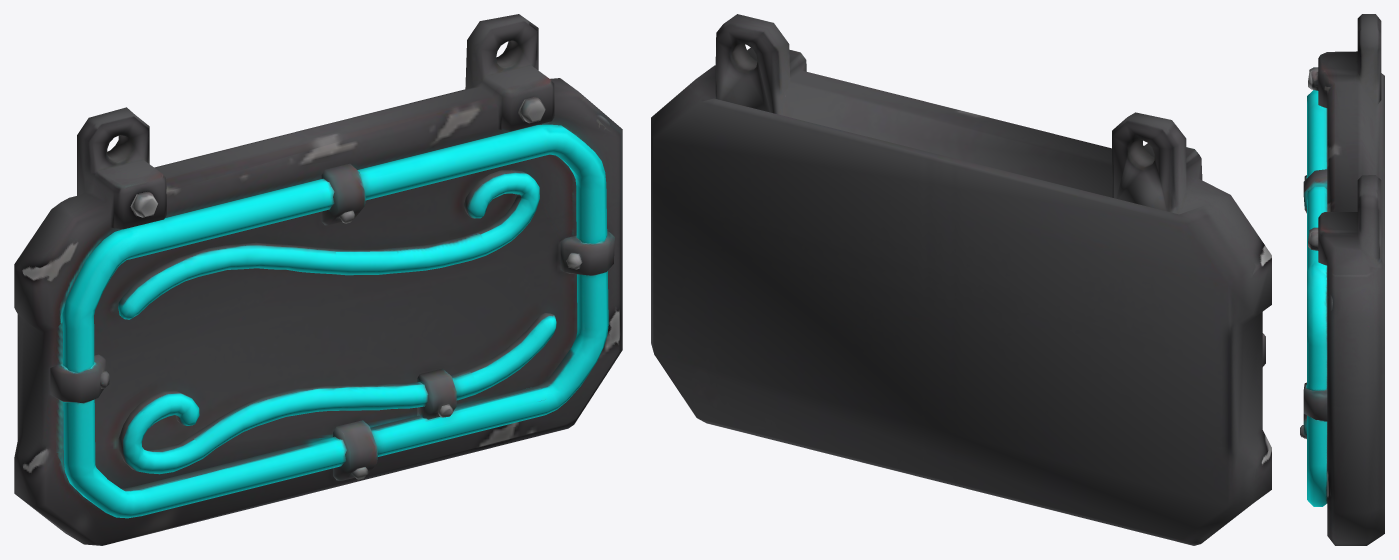
File: neon-sign.glb
3 views of the same model, side by side, from view 1: azimuth 30°, elevation 25°; view 2: azimuth 150°, elevation 25°; view 3: azimuth 270°, elevation 25° (orthographic). The views are drawn at different scales.
Visible parts, largest first — view 1: tripo_node_08d3ece7-989a-47c4-9074-3c5ef32a27d5; view 2: tripo_node_08d3ece7-989a-47c4-9074-3c5ef32a27d5; view 3: tripo_node_08d3ece7-989a-47c4-9074-3c5ef32a27d5.
Part boxes in pixels (left/top/right/bottom): tripo_node_08d3ece7-989a-47c4-9074-3c5ef32a27d5: left=14, top=14, right=622, bottom=545; tripo_node_08d3ece7-989a-47c4-9074-3c5ef32a27d5: left=651, top=14, right=1271, bottom=545; tripo_node_08d3ece7-989a-47c4-9074-3c5ef32a27d5: left=1300, top=14, right=1384, bottom=545.
Bounding box in the file's own units: 0.998 × 0.6621 × 0.1465.
1 material, 1 textured.
